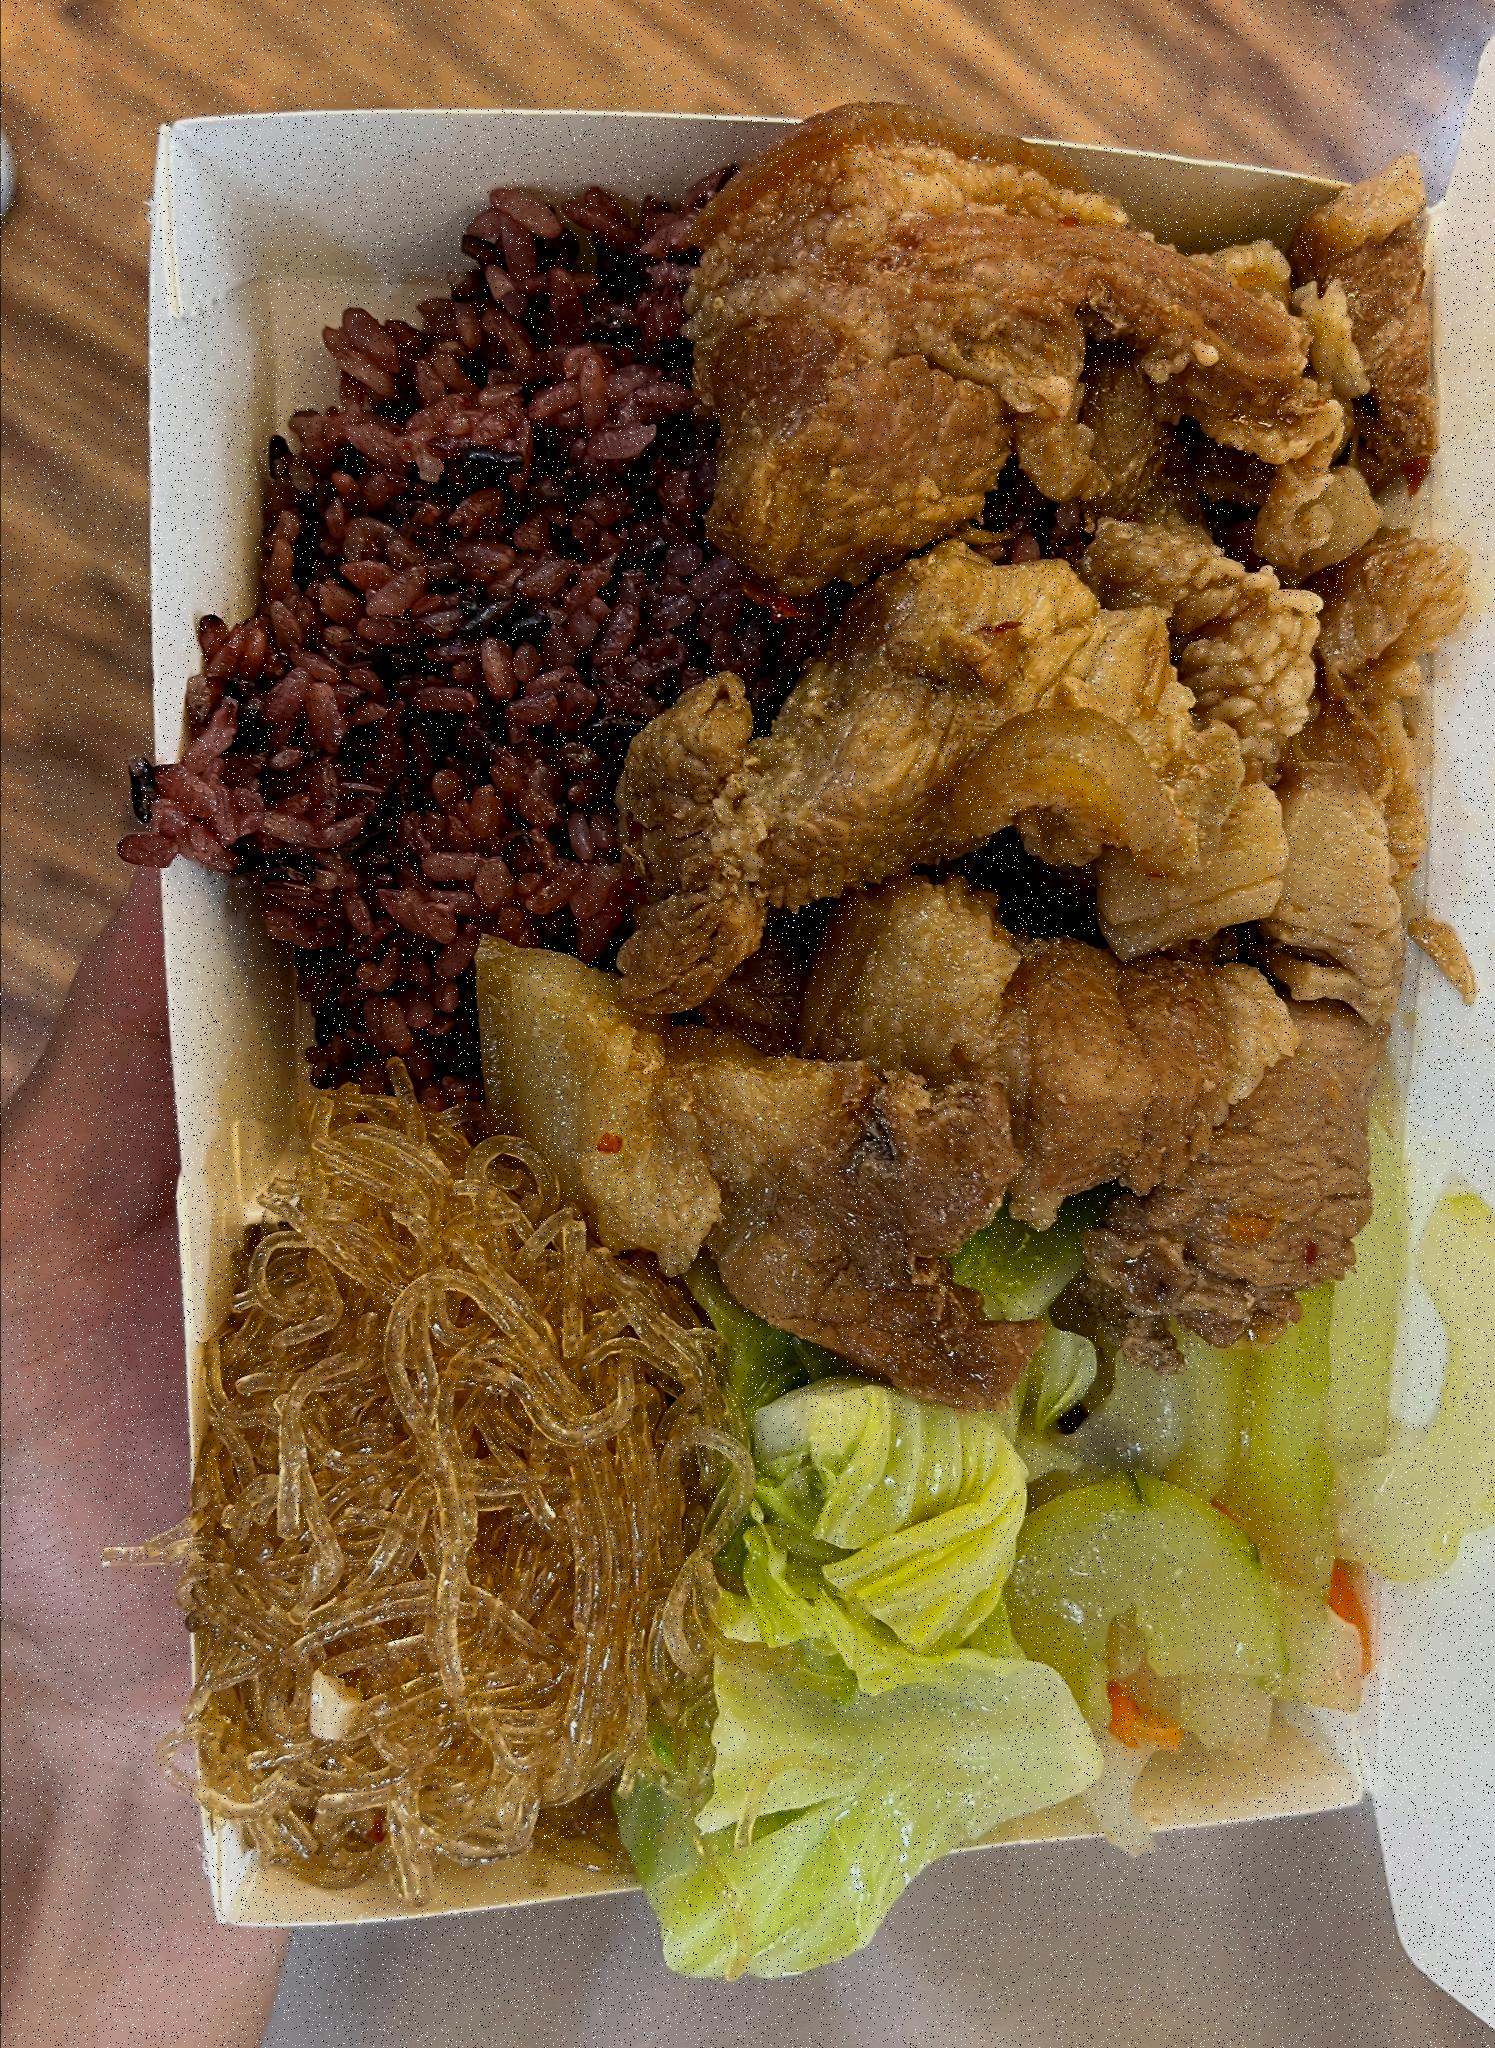box: (105, 52, 1462, 1949)
braised pork: (541, 89, 1443, 1347)
purple rice: (177, 165, 992, 1154)
side dish: (608, 1172, 1466, 1973), (172, 1108, 703, 1891)
